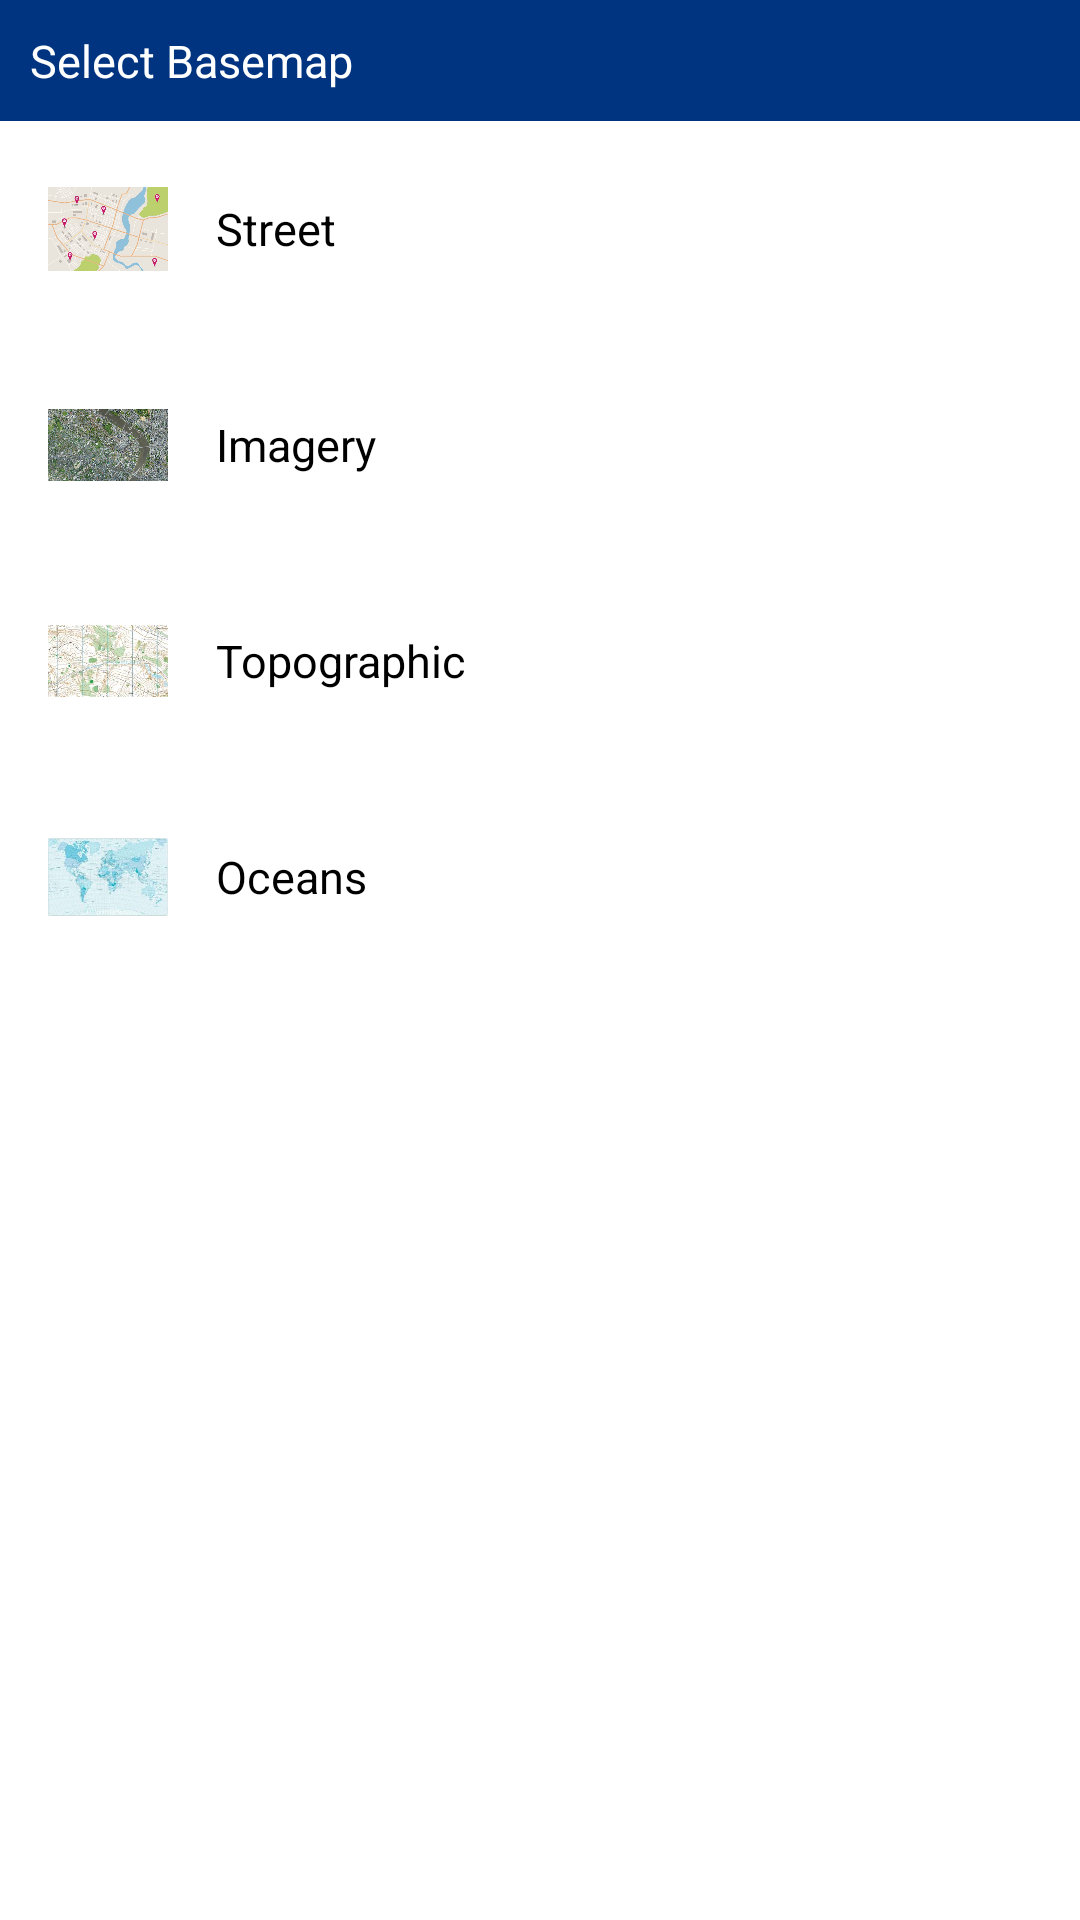

Icon click points for this 1080px×1920px phone screenshot, format (x,y):
satellite: (108,445)
